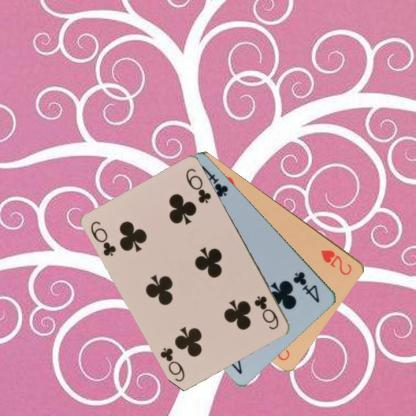2h: (318, 247, 354, 276)
4c: (291, 269, 321, 304)
6c: (88, 218, 118, 258), (252, 293, 280, 331)
